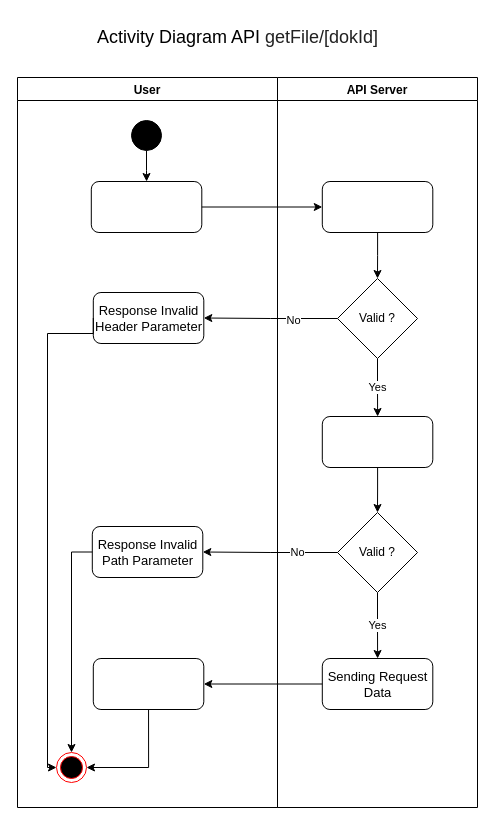
The diagram is 495 pixels wide and 825 high, and some of its shapes have lost their labels. Here are the shapes that lost their labels. From the top down, the centre of each, then its label:
the point at 146,206: Send Request
the point at 377,206: Checking Header Parameters
the point at 377,442: Checking Path Parameters
the point at 148,684: Response Success Request
